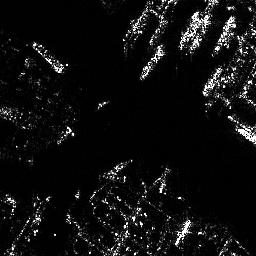ship: (32, 40, 65, 74), (214, 14, 237, 57), (177, 11, 202, 50), (141, 42, 165, 80), (201, 67, 222, 97)
